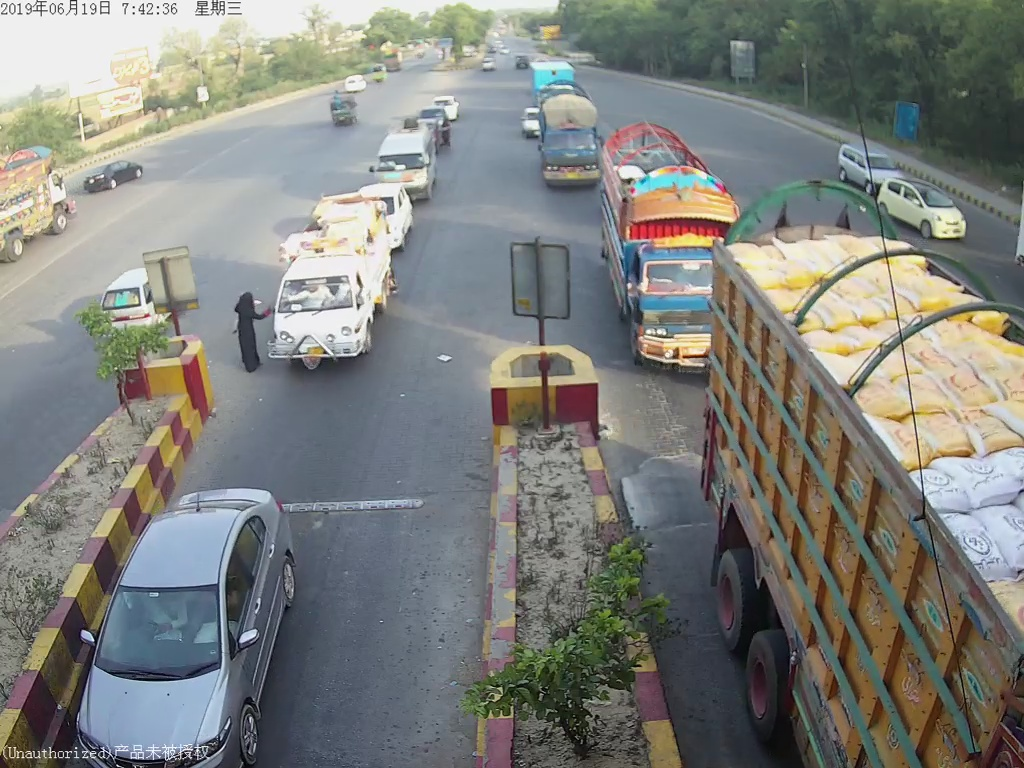Cat-1: (97, 480, 309, 741)
Cat-2: (602, 125, 706, 383), (275, 227, 402, 368)
Cat-4: (536, 98, 602, 202)
